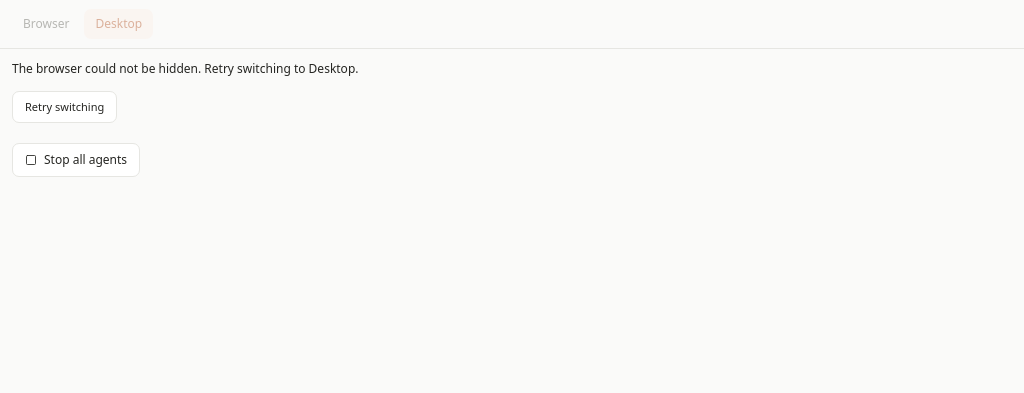
Test: remembered workspace browser view › retains a failed Hide barrier and never treats a preference acknowledgment as visibility proof
Expected: the text "The browser could not be hidden. Retry switching to Desktop." is shown, [12,60,358,77]
Step 1. Click the button "Retry switching" → (65,107), box [12,91,117,123]
Wait 1 ms
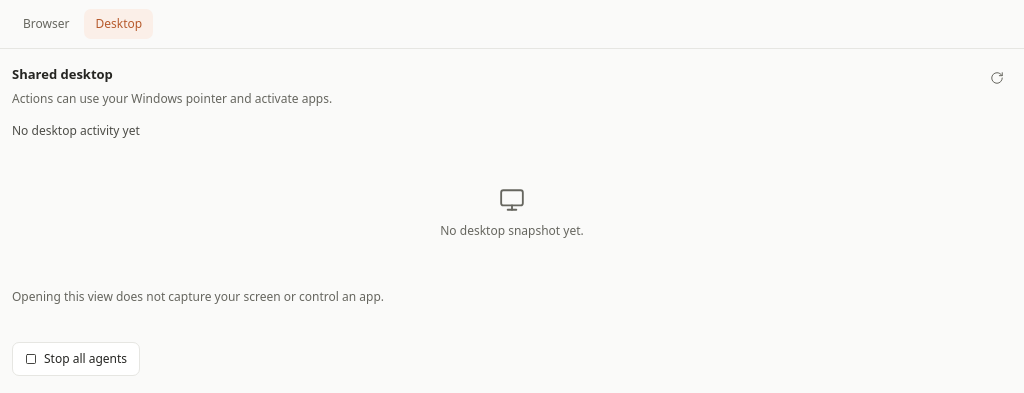
Expected: the element named "Desktop activity" is shown
